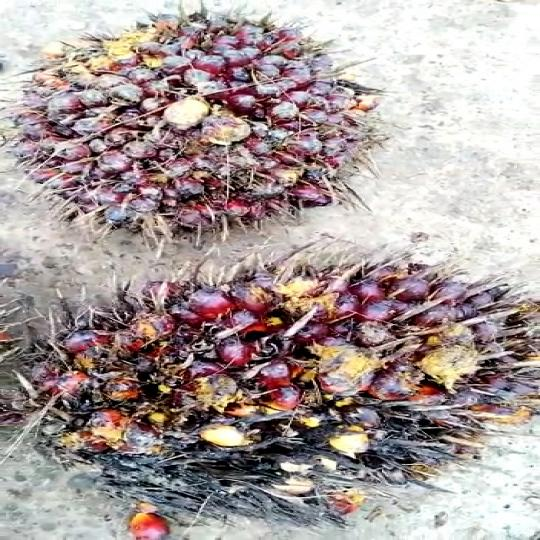masak: (30, 251, 540, 513), (16, 0, 386, 255)
